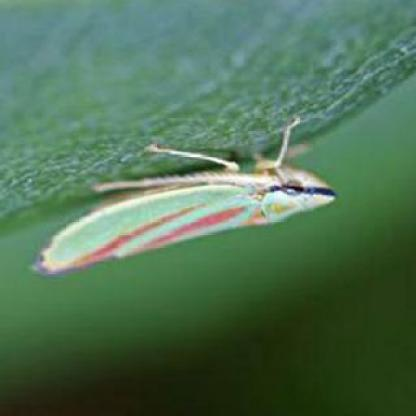green-leafhopper: (40, 155, 336, 281)
